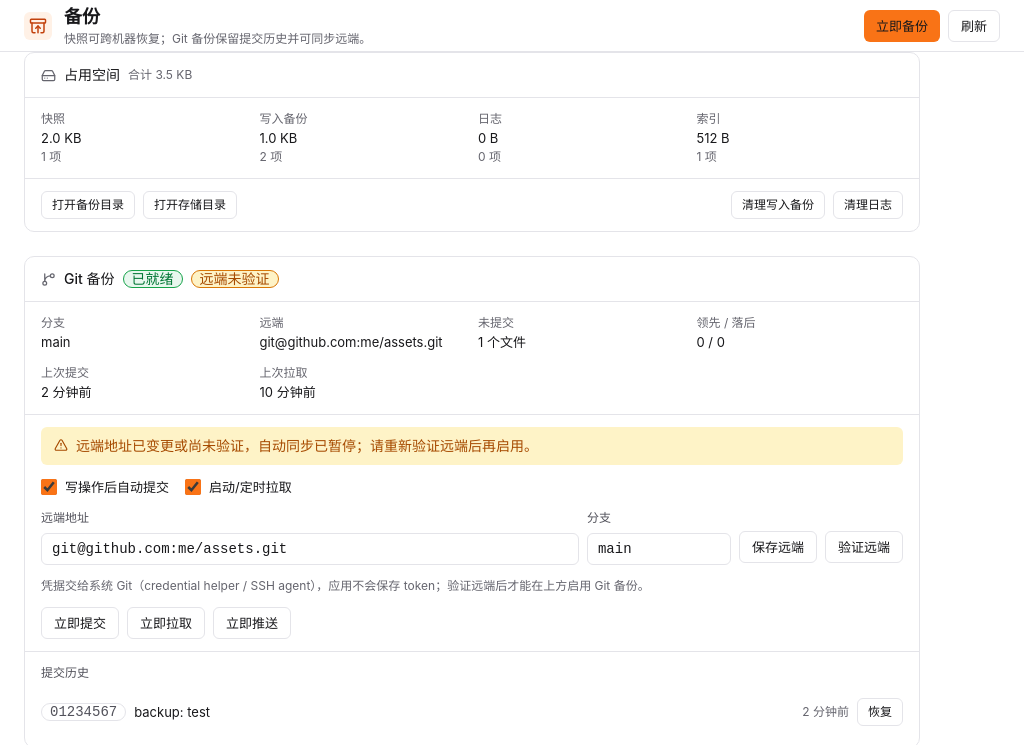
Test: verifies the filled remote before enabling git backup
(page scrolled)
Expected: the text "远端未验证" is shown, [200,272,270,286]
What coordinates should you click on to do the following:
click the button "验证远端"
I would click on:
 (864, 547)
Its box is [825,531,903,563].
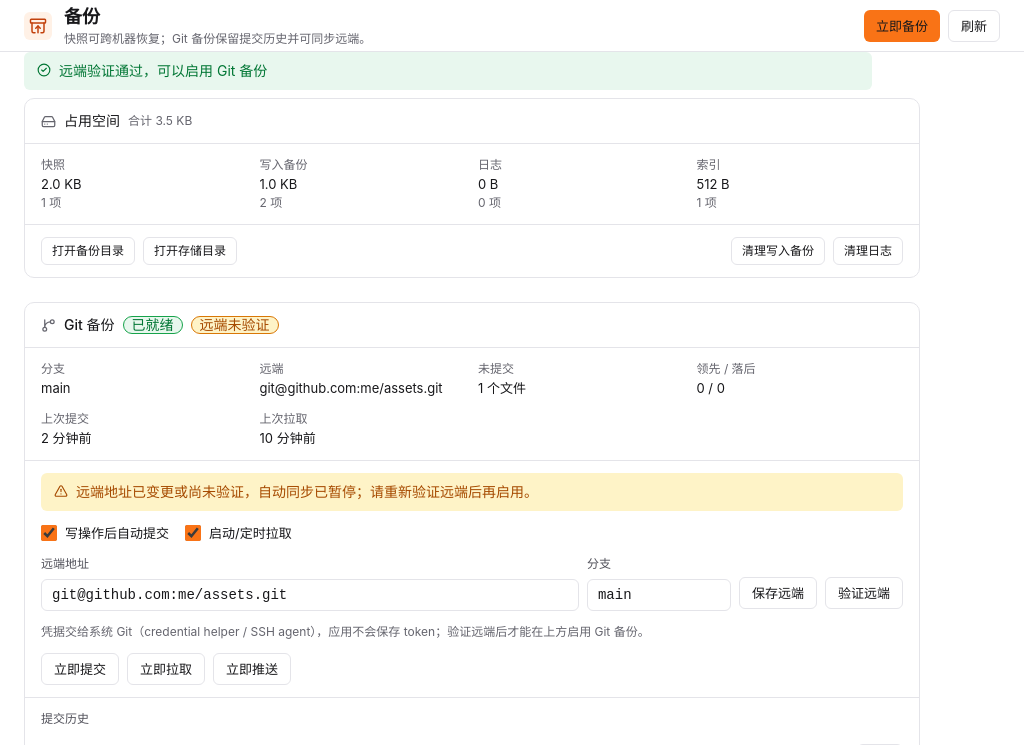
Now the text "远端验证通过，可以启用 Git 备份" is shown, box [59,61,267,81]
